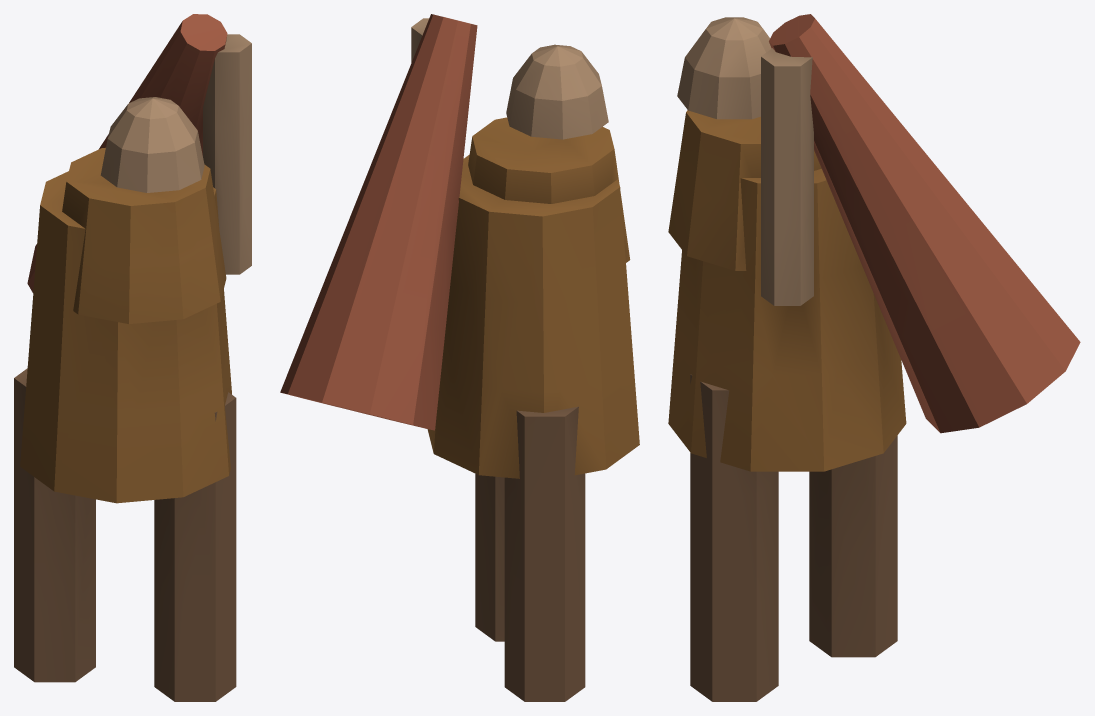
File: porter.glb
3 renders of one model, left to right at view 1: azimuth 30°, elevation 25°; view 2: azimuth 150°, elevation 25°; view 3: azimuth 270°, elevation 25°, orthographic. The views are drawn at different scales.
Parts seen in each view (by area): view 1: base; view 2: base; view 3: base.
Part boxes in pixels (x1,y1,x2,y2): base: [14, 14, 251, 701]; base: [280, 14, 639, 701]; base: [668, 14, 1080, 701].
Size of the model in its own units: 0.667 by 1.72 by 0.9353.
